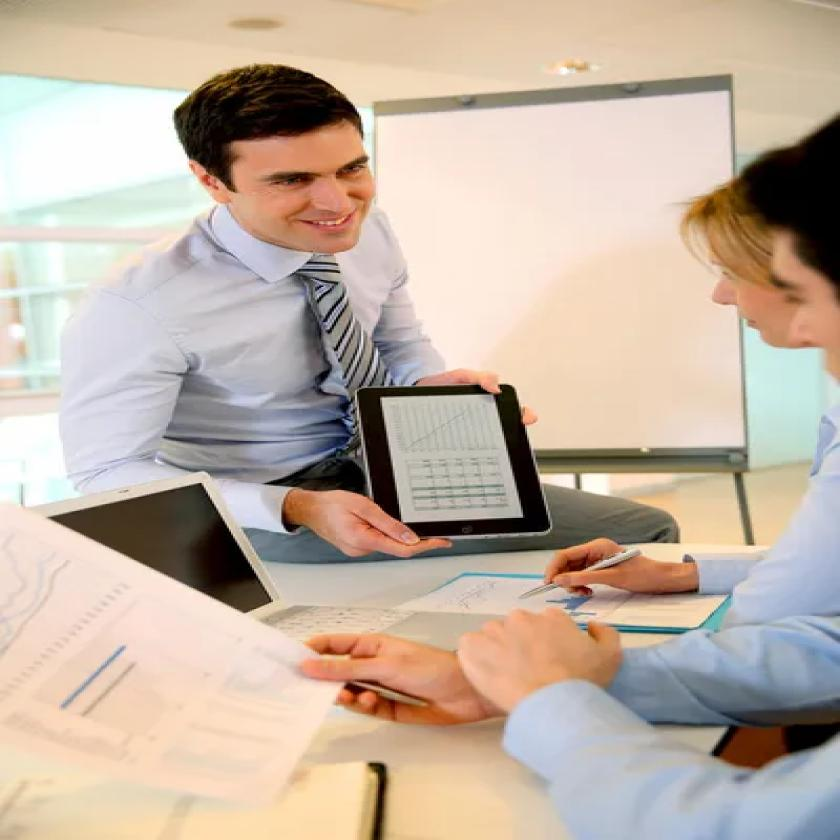Sin_casco: (160, 58, 384, 272)
